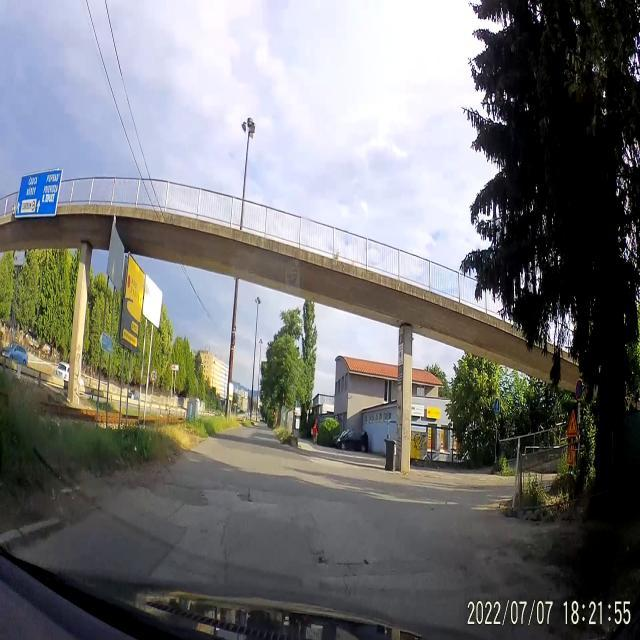Pothole: (312, 545, 372, 579), (232, 482, 262, 508)
